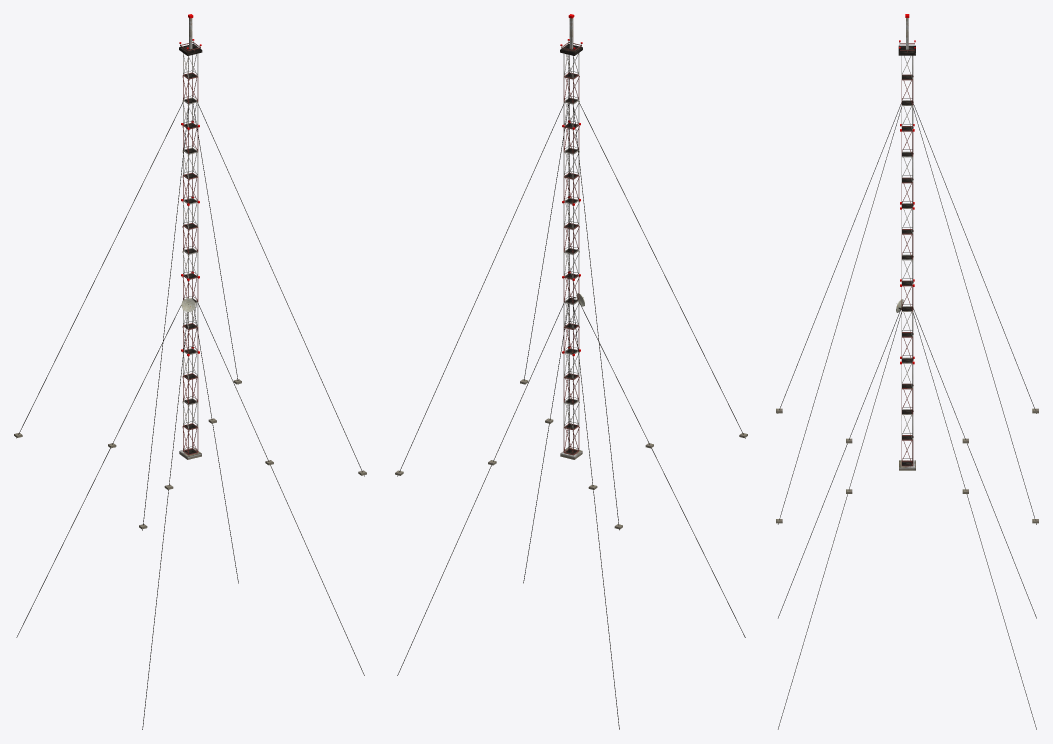
The picture shows the model from 3 angles, left to right: view 1: azimuth 30°, elevation 25°; view 2: azimuth 150°, elevation 25°; view 3: azimuth 270°, elevation 25°; orthographic projection. The views are drawn at different scales.
Visible parts, largest first — view 1: no part large enough to name; view 2: no part large enough to name; view 3: Box574, Box575, Box578, Box577.
Part boxes in pixels (bbox=[...]): Box574: bbox=[913, 108, 1036, 524]; Box575: bbox=[778, 107, 901, 524]; Box578: bbox=[778, 310, 902, 729]; Box577: bbox=[913, 313, 1036, 729].
Size of the model in its own units: 126 by 343 by 124.
Materials: 1 (1 with a texture image).
